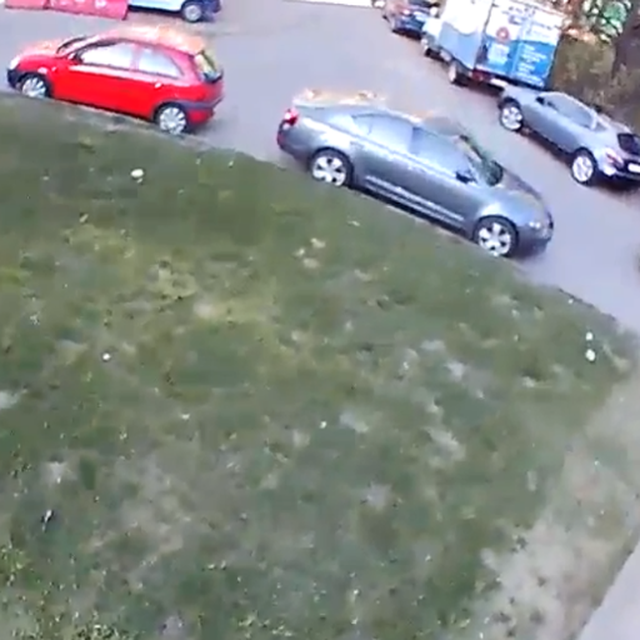car: (277, 87, 555, 258), (6, 25, 225, 136), (497, 87, 640, 184), (380, 1, 441, 38)
